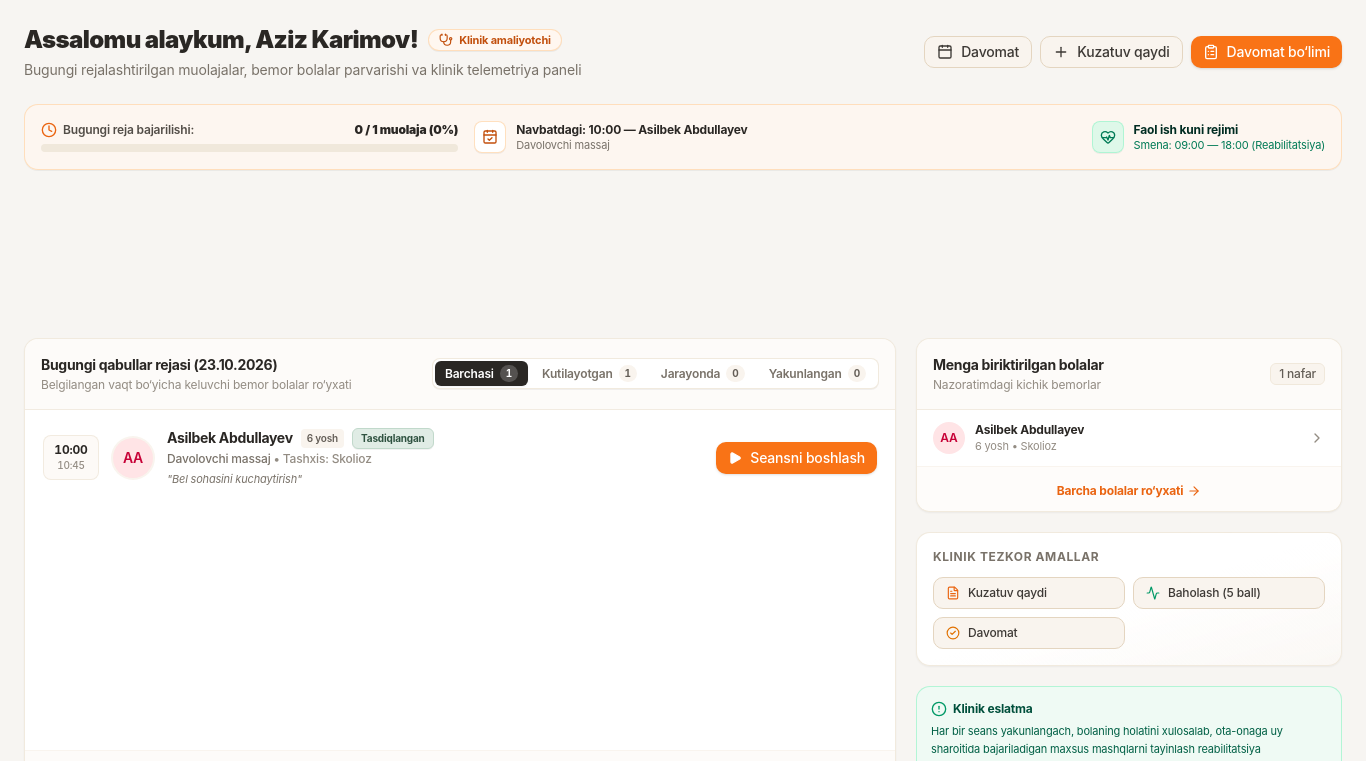
Test: SpecialistDashboard Component › opens quick progress note modal upon clicking Kuzatuv qaydi button
Click the button "Kuzatuv qaydi" in the row of "Klinik amaliyotchi" at (1111, 52), box x1=1040 y1=36 x2=1183 y2=68
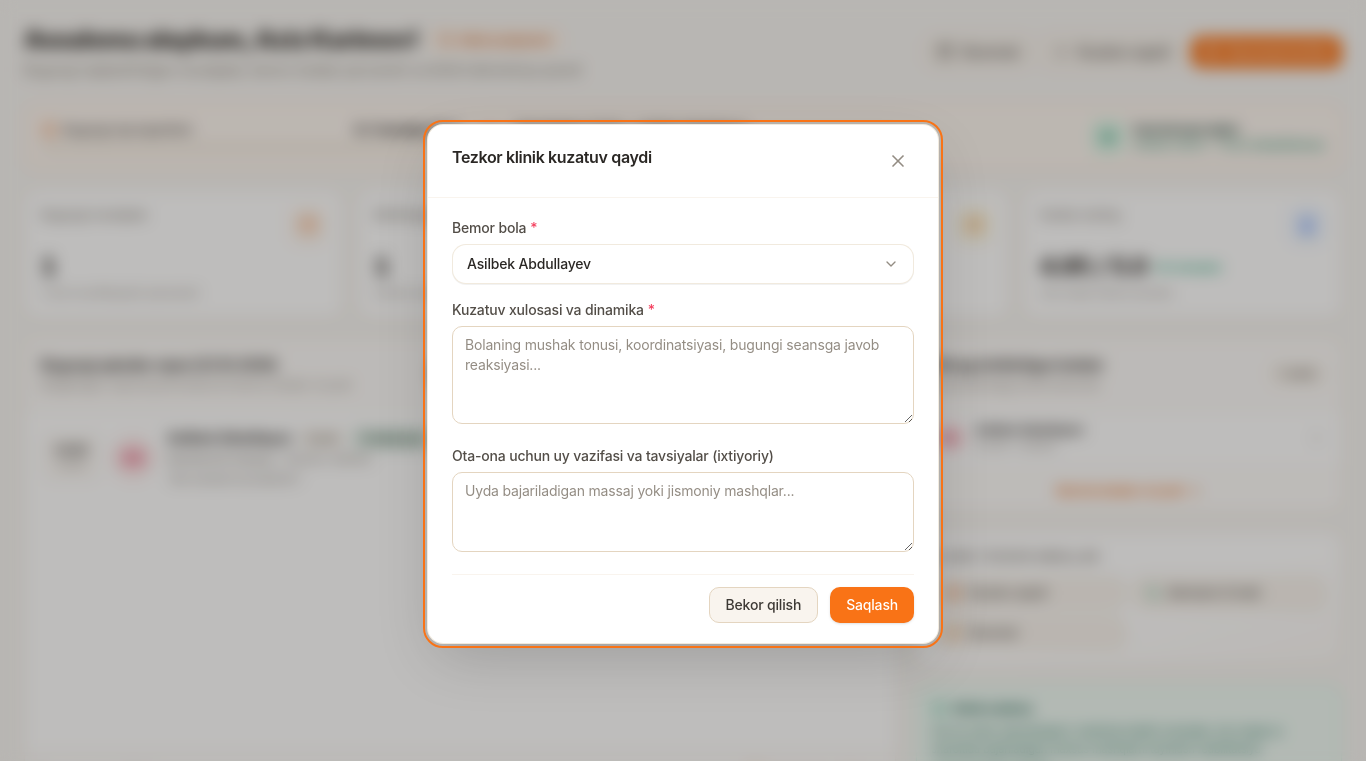
Expected: the heading "Tezkor klinik kuzatuv qaydi" is shown, x1=452 y1=145 x2=652 y2=169
Expected: the text "Bemor bola" is shown, x1=452 y1=219 x2=526 y2=236
